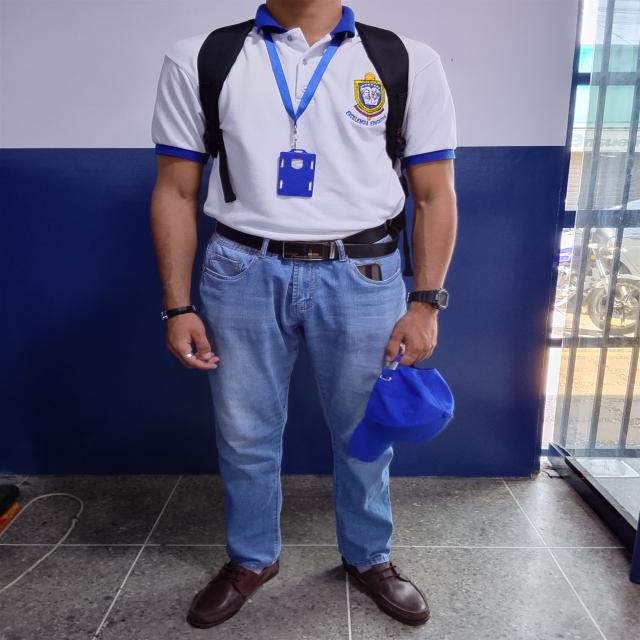carnet: (277, 151, 316, 197)
uniforme_superior: (150, 3, 457, 241)
